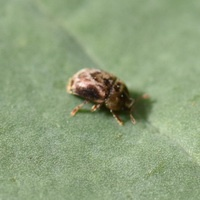insect: (67, 68, 135, 125)
